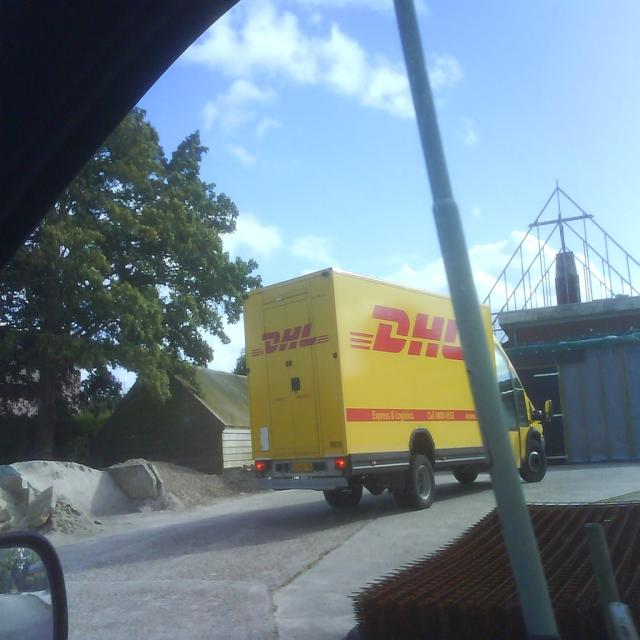dhl: (341, 299, 464, 365), (248, 322, 331, 362)
